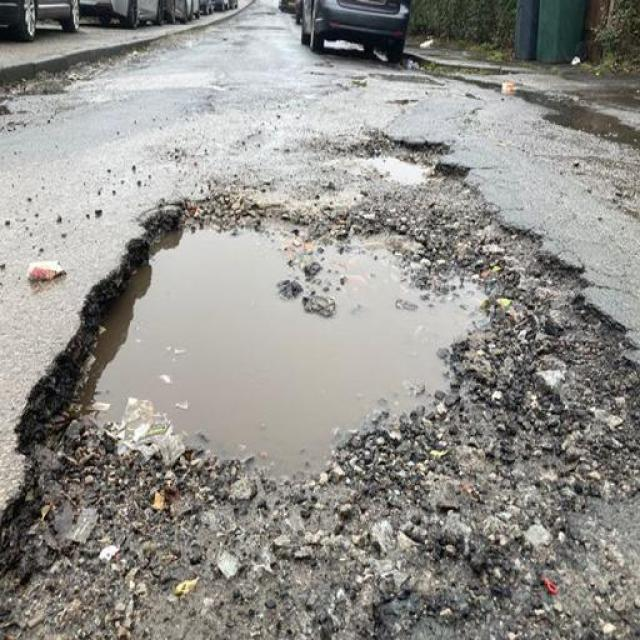puddle: (136, 200, 460, 489)
